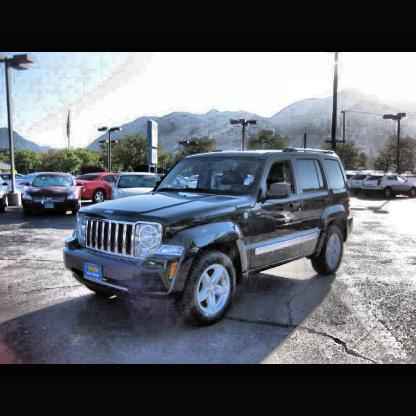Jeep Liberty SUV 2012: (62, 147, 356, 332)
